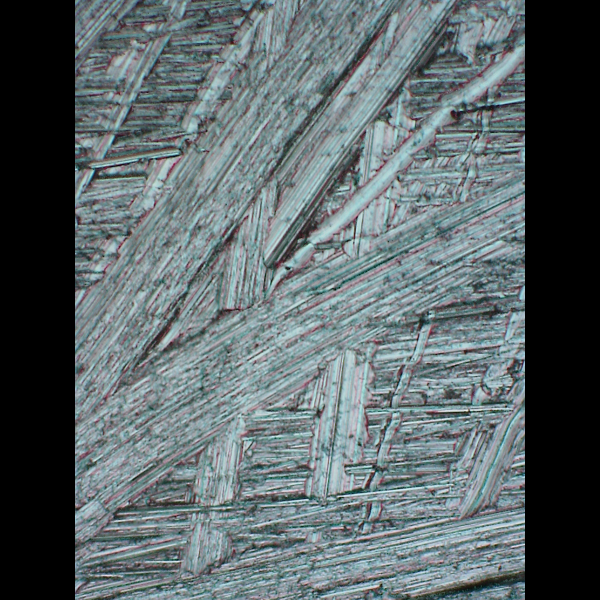d: (77, 4, 524, 600)
